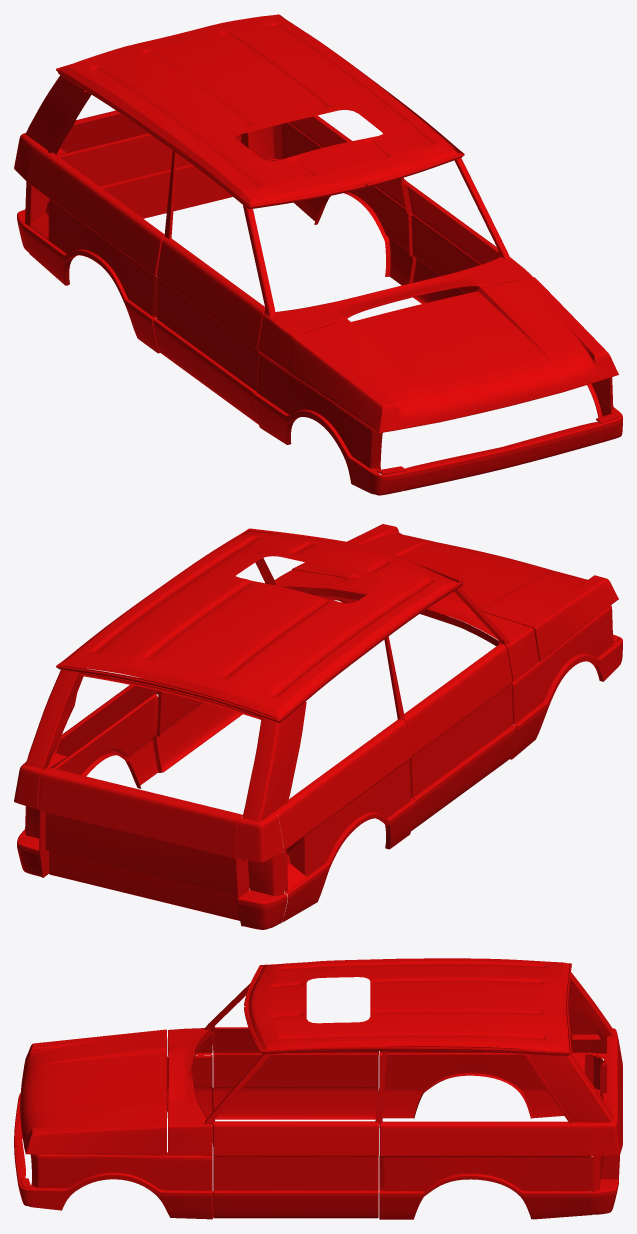
Rendered from radian_utility1.gltf.
The picture shows the model from 3 angles, top to bottom: view 1: azimuth 30°, elevation 25°; view 2: azimuth 150°, elevation 25°; view 3: azimuth 270°, elevation 25°; orthographic projection. The views are drawn at different scales.
Parts seen in each view (by area): view 1: 메인몸톤; view 2: 메인몸톤; view 3: 메인몸톤.
Boxes of the visible parts, x1,y1,x2,y2 form: 메인몸톤: [14, 14, 622, 495]; 메인몸톤: [14, 524, 622, 929]; 메인몸톤: [14, 958, 622, 1219].
Bounding box in the file's own units: 1.02 × 0.7779 × 2.47.
